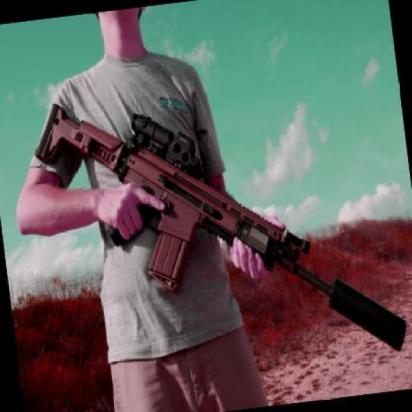Gun: (42, 89, 405, 321)
